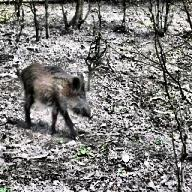boar: (15, 62, 92, 140)
